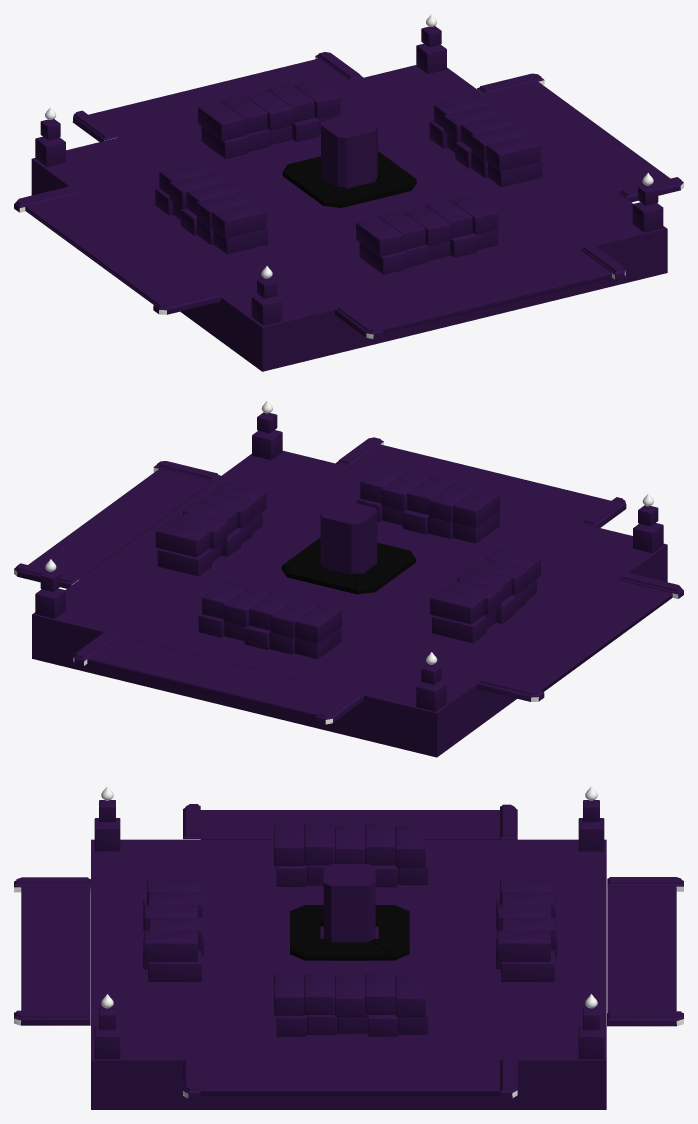
File: arene new vanillaDA.FBX
3 renders of one model, top to bottom at view 1: azimuth 30°, elevation 25°; view 2: azimuth 150°, elevation 25°; view 3: azimuth 270°, elevation 25°, orthographic. The views are drawn at different scales.
Parts seen in each view (by area): view 1: Box168; view 2: Box168; view 3: Box168.
Boxes of the visible parts, x1=… form: Box168: x1=14, y1=14, x2=683, y2=371; Box168: x1=14, y1=400, x2=683, y2=757; Box168: x1=14, y1=786, x2=683, y2=1109.
Bounding box in the file's own units: 7935 × 1609 × 7850.
